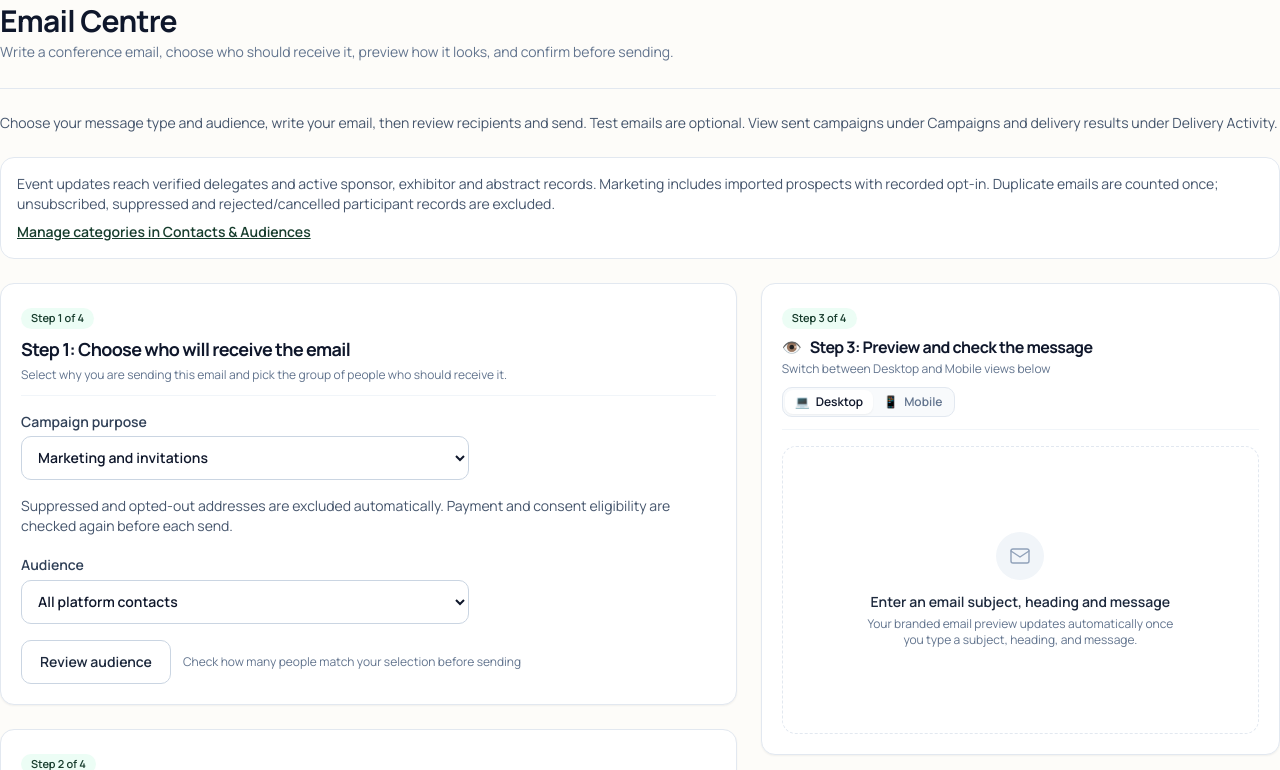
Test case: Communications Centre › shows stored audience totals separately from sendable recipients and exclusions
Click the button "Review audience": (96, 662) [21, 640, 171, 684]
(page scrolled)
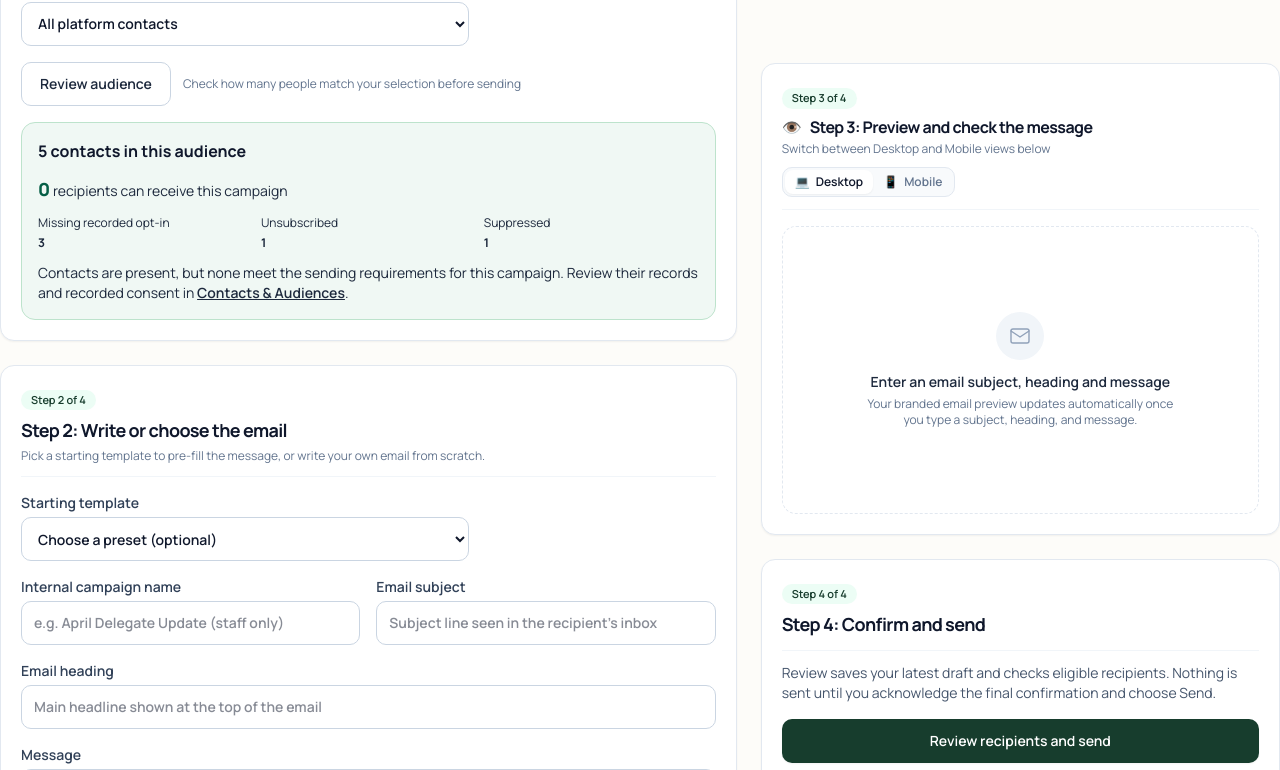
Expected: the text "5 contacts in this audience" is shown, [38, 140, 246, 162]
Expected: the text "Missing recorded opt-in" is shown, [38, 214, 170, 230]
Expected: the text "Unsubscribed" is shown, [261, 214, 338, 230]
Click the button "Review recipients and send": (1020, 741) [782, 719, 1259, 763]
(page scrolled)
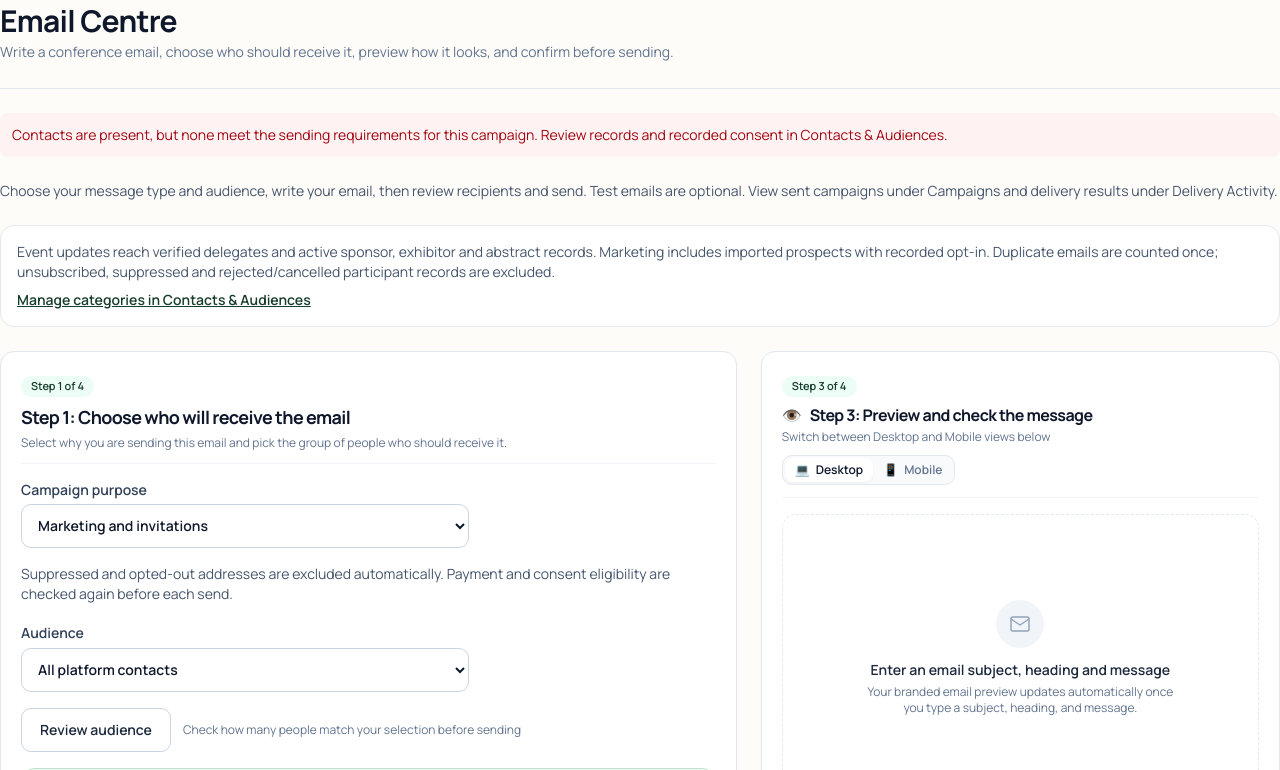
Expected: the 1st message shows "Contacts are present", [12, 125, 948, 144]
